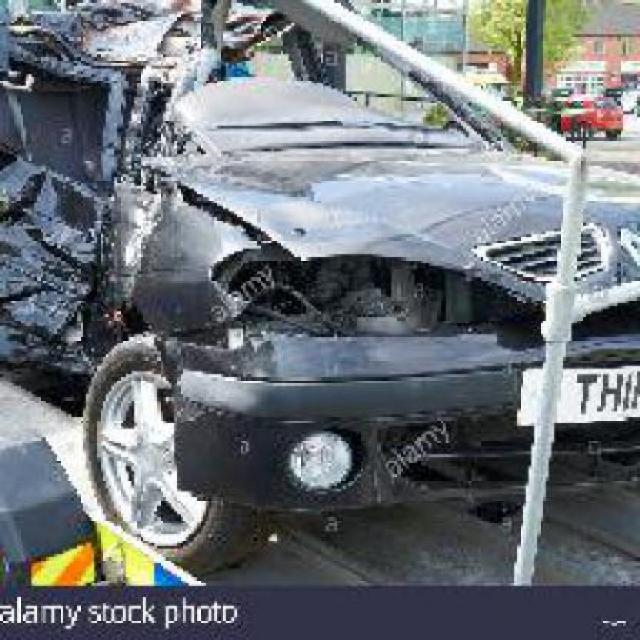damaged-door: (1, 48, 121, 370)
damaged-head-light: (222, 251, 501, 337)
damaged-hood: (192, 148, 638, 281)
